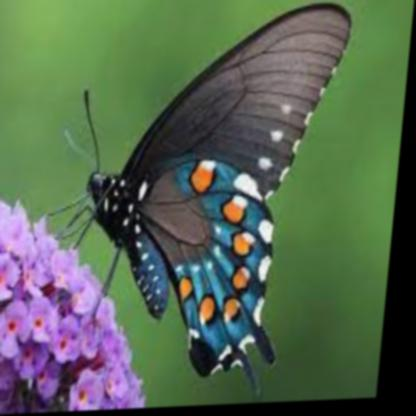Butterfly: (34, 1, 358, 392)
